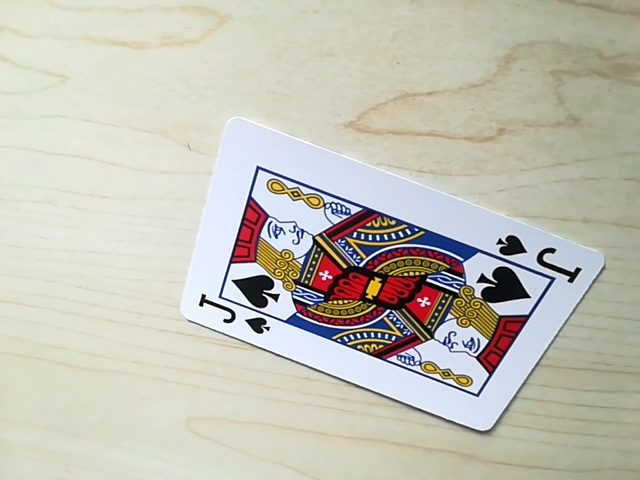ht j: (489, 228, 583, 270), (197, 305, 271, 340)
